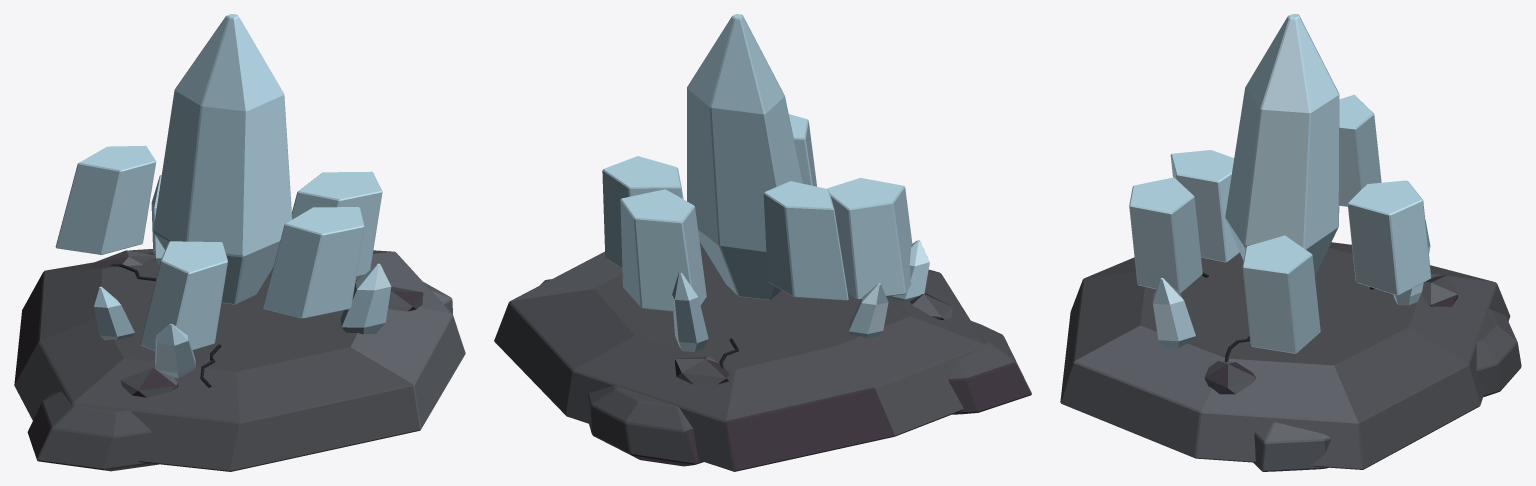
The model's file is BH_ORE_O20_Cristal_Anomalo_V02.glb.
The picture shows the model from 3 angles, left to right: view 1: azimuth 30°, elevation 25°; view 2: azimuth 150°, elevation 25°; view 3: azimuth 270°, elevation 25°; orthographic projection.
Visible parts, largest first — view 1: Bedrock | primary.003, Linked anomaly prism.003, Anomaly block 5.003, Anomaly block 3.003, Bedrock | shoulder 1.003, Anomaly block 4.003, Anomaly block 1.003, O20 | V02 secondary crystal 1.001, O20 | V02 secondary crystal 3.001, O20 | V02 secondary crystal 0.001, O20 | V02 embedded stone ledge.004, O20 | V02 embedded stone ledge.005 (+2 smaller); view 2: Bedrock | primary.003, Linked anomaly prism.003, Anomaly block 2.003, Anomaly block 3.003, Anomaly block 4.003, Bedrock | shoulder 3.003, Bedrock | shoulder 1.003, Anomaly block 1.003, O20 | V02 secondary crystal 2.001, O20 | V02 secondary crystal 0.001, O20 | V02 embedded stone ledge.003, Anomaly block 5.003 (+2 smaller); view 3: Bedrock | primary.003, Linked anomaly prism.003, Anomaly block 2.003, Anomaly block 1.003, Anomaly block 5.003, Anomaly block 4.003, Anomaly block 3.003, Bedrock | shoulder 2.003, Bedrock | shoulder 3.003, O20 | V02 secondary crystal 1.001, O20 | V02 embedded stone ledge.005, O20 | V02 embedded stone ledge.003.
Part boxes in pixels (x1,y1,x2,y2): Bedrock | primary.003: [14, 250, 465, 471]; Linked anomaly prism.003: [153, 14, 292, 304]; Anomaly block 5.003: [263, 207, 364, 318]; Anomaly block 3.003: [55, 145, 156, 254]; Bedrock | shoulder 1.003: [27, 391, 158, 471]; Anomaly block 4.003: [140, 241, 227, 351]; Anomaly block 1.003: [292, 171, 382, 276]; O20 | V02 secondary crystal 1.001: [340, 263, 391, 334]; O20 | V02 secondary crystal 3.001: [155, 323, 195, 377]; O20 | V02 secondary crystal 0.001: [94, 286, 134, 340]; O20 | V02 embedded stone ledge.004: [120, 367, 178, 397]; O20 | V02 embedded stone ledge.005: [388, 286, 423, 311]; Bedrock | primary.003: [494, 242, 985, 471]; Linked anomaly prism.003: [687, 14, 802, 299]; Anomaly block 2.003: [620, 189, 706, 311]; Anomaly block 3.003: [763, 181, 848, 300]; Anomaly block 4.003: [827, 178, 912, 299]; Bedrock | shoulder 3.003: [587, 385, 703, 466]; Bedrock | shoulder 1.003: [948, 321, 1031, 414]; Anomaly block 1.003: [602, 156, 683, 268]; O20 | V02 secondary crystal 2.001: [672, 272, 708, 351]; O20 | V02 secondary crystal 0.001: [848, 283, 888, 337]; O20 | V02 embedded stone ledge.003: [675, 356, 729, 384]; Anomaly block 5.003: [788, 114, 816, 186]; Bedrock | primary.003: [1060, 242, 1510, 469]; Linked anomaly prism.003: [1225, 14, 1339, 276]; Anomaly block 2.003: [1347, 180, 1431, 295]; Anomaly block 1.003: [1242, 235, 1320, 353]; Anomaly block 5.003: [1129, 177, 1202, 293]; Anomaly block 4.003: [1170, 150, 1239, 262]; Anomaly block 3.003: [1339, 95, 1381, 206]; Bedrock | shoulder 2.003: [1253, 422, 1331, 471]; Bedrock | shoulder 3.003: [1476, 308, 1521, 396]; O20 | V02 secondary crystal 1.001: [1153, 278, 1195, 348]; O20 | V02 embedded stone ledge.005: [1204, 361, 1255, 394]; O20 | V02 embedded stone ledge.003: [1421, 274, 1457, 306].
Size of the model in its own units: 3.05 by 2.37 by 2.68.
